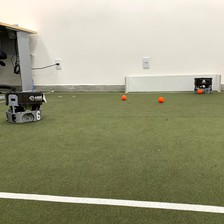ball: (119, 94, 126, 101), (157, 94, 164, 101), (196, 87, 202, 94)
goal: (122, 72, 220, 94)
robot: (4, 90, 43, 125), (192, 75, 213, 92)
